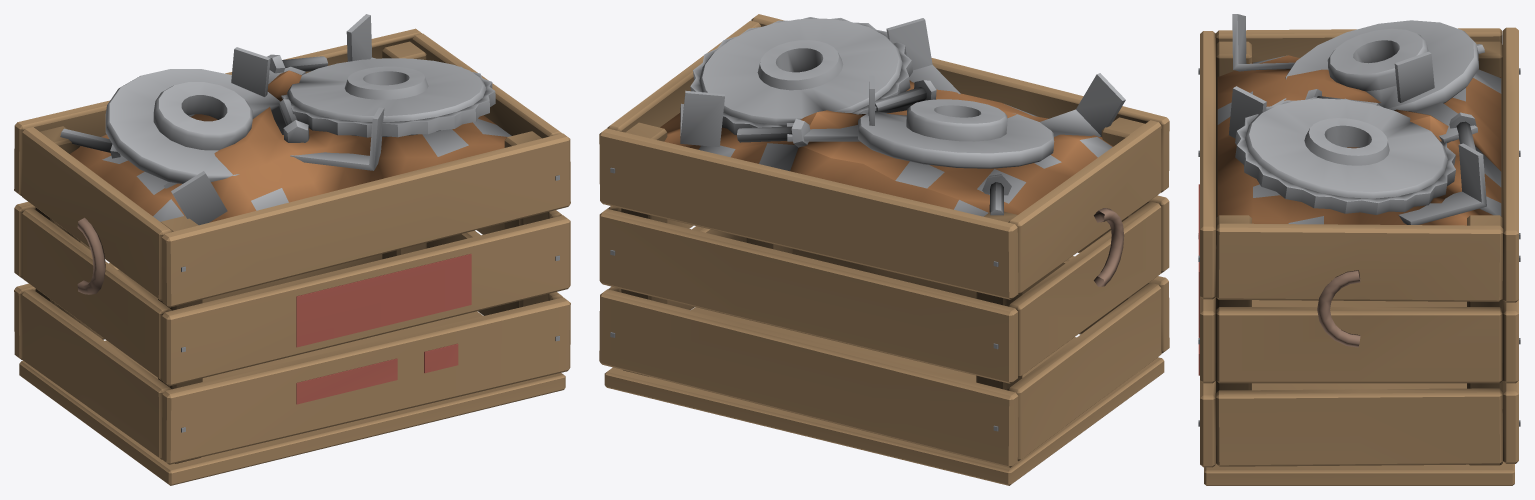
The model's file is crate_parts_heavy.glb.
3 views of the same model, side by side, from view 1: azimuth 30°, elevation 25°; view 2: azimuth 150°, elevation 25°; view 3: azimuth 270°, elevation 25° (orthographic). The views are drawn at different scales.
Visible parts, largest first — view 1: PART; view 2: PART; view 3: PART.
Part boxes in pixels (left/top/right/bottom): PART: left=14, top=14, right=570, bottom=485; PART: left=599, top=14, right=1169, bottom=485; PART: left=1198, top=14, right=1520, bottom=485.
Size of the model in its own units: 0.6394 by 0.4482 by 0.404.
